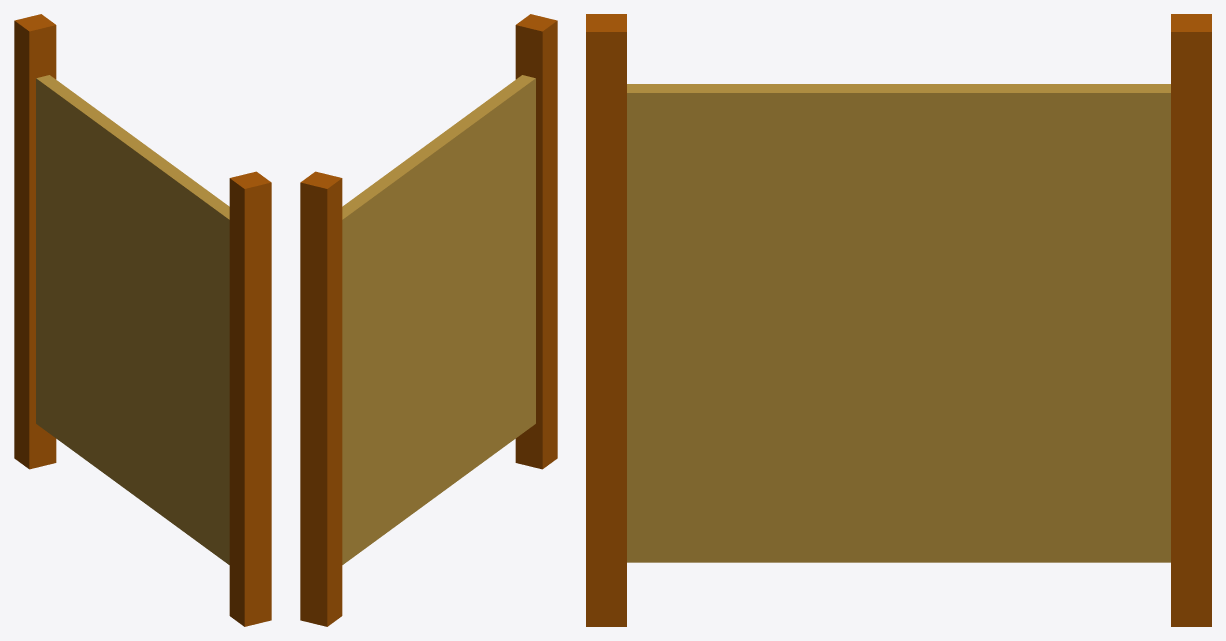
File: Fence.fbx
3 renders of one model, left to right at view 1: azimuth 30°, elevation 25°; view 2: azimuth 150°, elevation 25°; view 3: azimuth 270°, elevation 25°, orthographic. The views are drawn at different scales.
Visible parts, largest first — view 1: Fence; view 2: Fence; view 3: Fence.
Part boxes in pixels (box(x1,y1,x2,y2)): Fence: box(14, 14, 271, 626); Fence: box(300, 14, 557, 626); Fence: box(586, 14, 1211, 626).
Size of the model in its own units: 0.3459 by 5.38 by 5.12.
